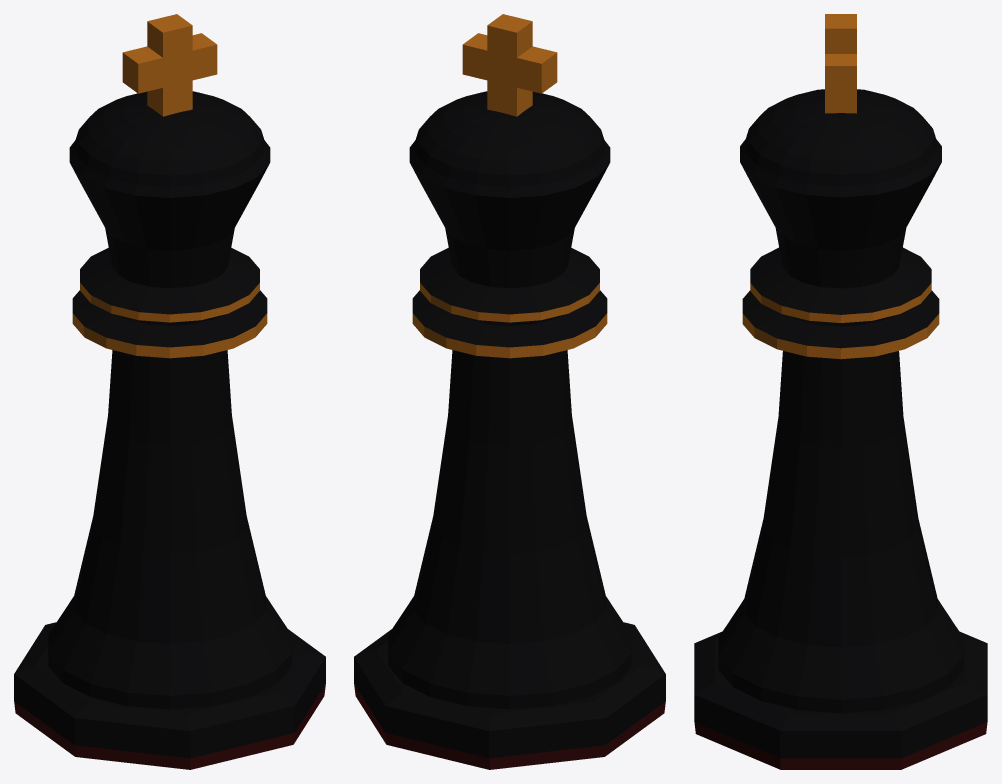
Rendered from cozy_chess_black_king.obj.
3 renders of one model, left to right at view 1: azimuth 30°, elevation 25°; view 2: azimuth 150°, elevation 25°; view 3: azimuth 270°, elevation 25°, orthographic.
Visible parts, largest first — view 1: Chess_Black_King_Mesh; view 2: Chess_Black_King_Mesh; view 3: Chess_Black_King_Mesh.
Boxes of the visible parts, box(x1,y1,x2,y2) form: Chess_Black_King_Mesh: box(14, 14, 325, 769); Chess_Black_King_Mesh: box(354, 14, 665, 769); Chess_Black_King_Mesh: box(694, 14, 987, 769).
Size of the model in its own units: 0.0407 by 0.1054 by 0.0407.
